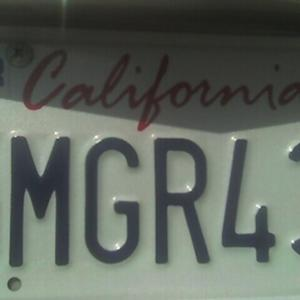Vehicle-registration-plate: (1, 25, 300, 300)
